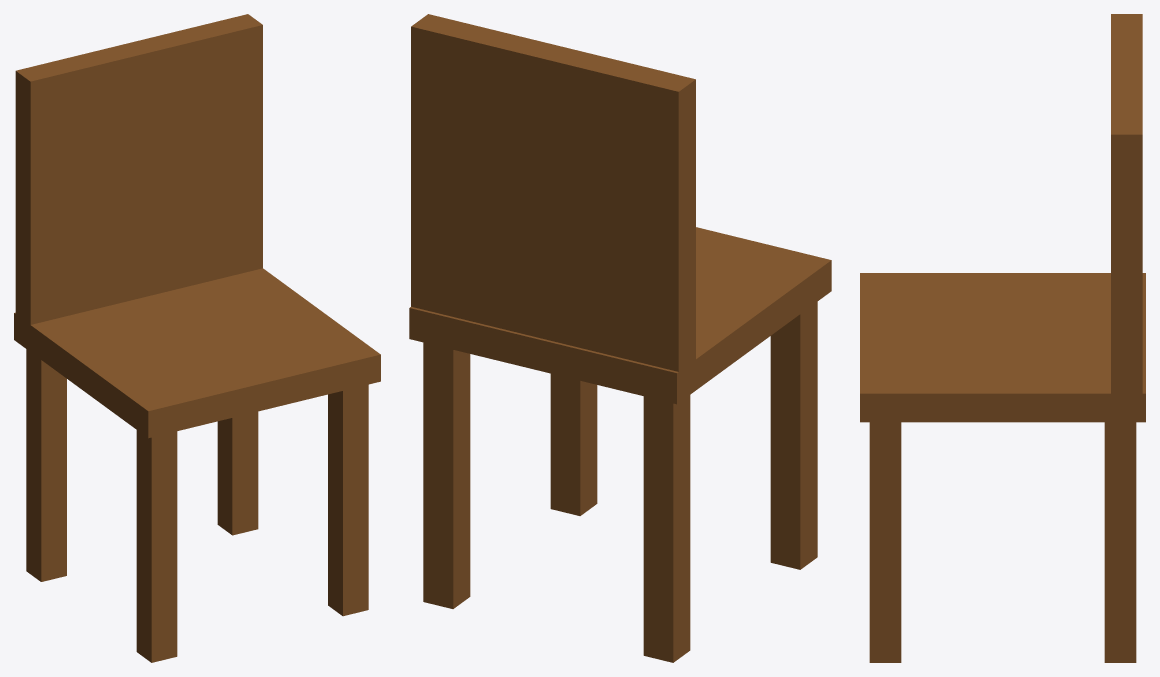
Rendered from chair_01.glb.
3 renders of one model, left to right at view 1: azimuth 30°, elevation 25°; view 2: azimuth 150°, elevation 25°; view 3: azimuth 270°, elevation 25°, orthographic. The views are drawn at different scales.
Visible parts, largest first — view 1: chair_01; view 2: chair_01; view 3: chair_01.
Boxes of the visible parts, x1,y1,x2,y2 form: chair_01: (14, 14, 380, 662); chair_01: (409, 14, 831, 662); chair_01: (860, 14, 1145, 662).
Size of the model in its own units: 0.45 by 0.925 by 0.45.
